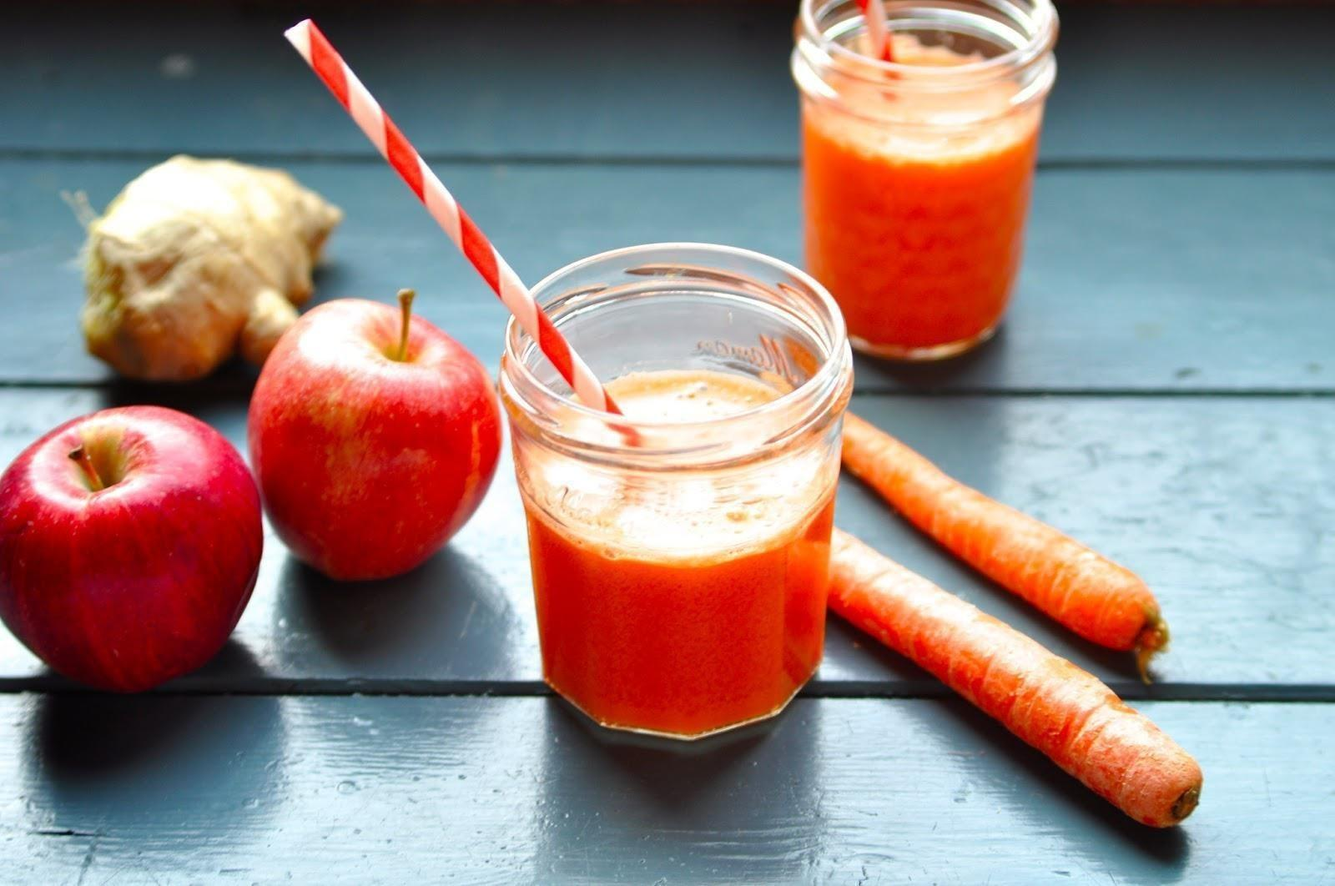glass-normal: (496, 239, 856, 739), (788, 1, 1060, 361)
